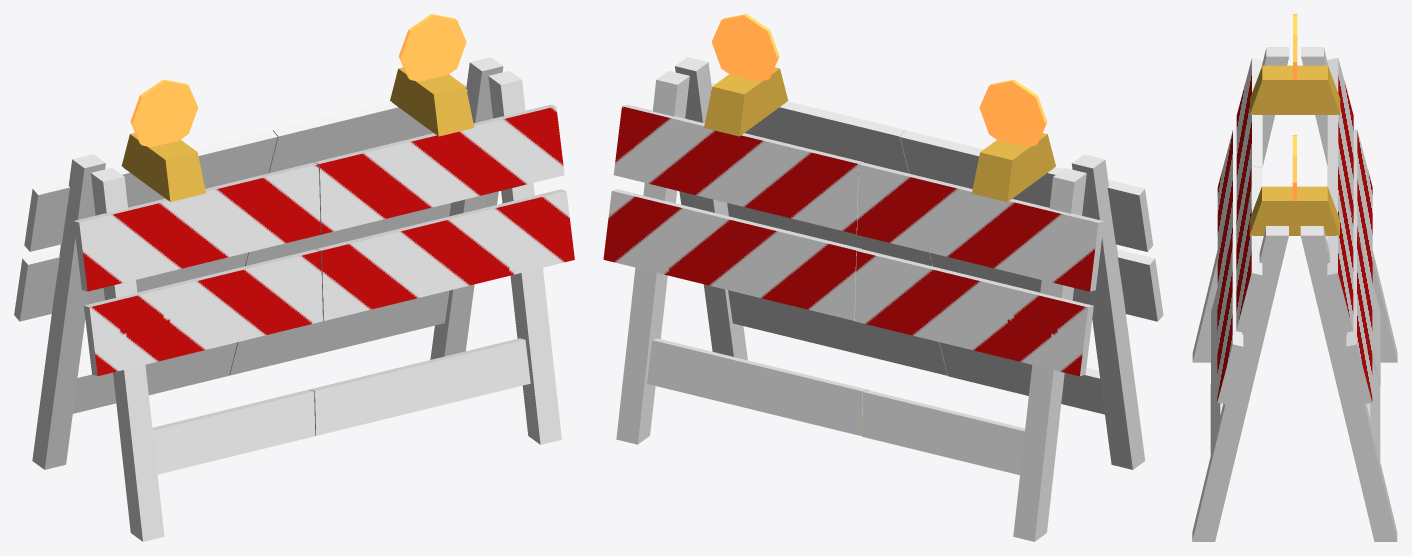
Rendered from Obstacle1cut.fbx.
The picture shows the model from 3 angles, left to right: view 1: azimuth 30°, elevation 25°; view 2: azimuth 150°, elevation 25°; view 3: azimuth 270°, elevation 25°; orthographic projection. The views are drawn at different scales.
Parts seen in each view (by area): view 1: obstacle1.001, obstacle1, obstacle1_lights; view 2: obstacle1.001, obstacle1, obstacle1_lights; view 3: obstacle1.001, obstacle1, obstacle1_lights.
Boxes of the visible parts, x1,y1,x2,y2 form: obstacle1.001: (229, 14, 574, 444); obstacle1: (14, 130, 322, 541); obstacle1_lights: (130, 79, 198, 147); obstacle1.001: (603, 14, 947, 444); obstacle1: (855, 130, 1163, 541); obstacle1_lights: (979, 79, 1047, 147); obstacle1.001: (1192, 135, 1397, 541); obstacle1: (1192, 47, 1397, 384); obstacle1_lights: (1293, 14, 1297, 79).
Bounding box in the file's own units: 100 × 80.9 × 40.41.
